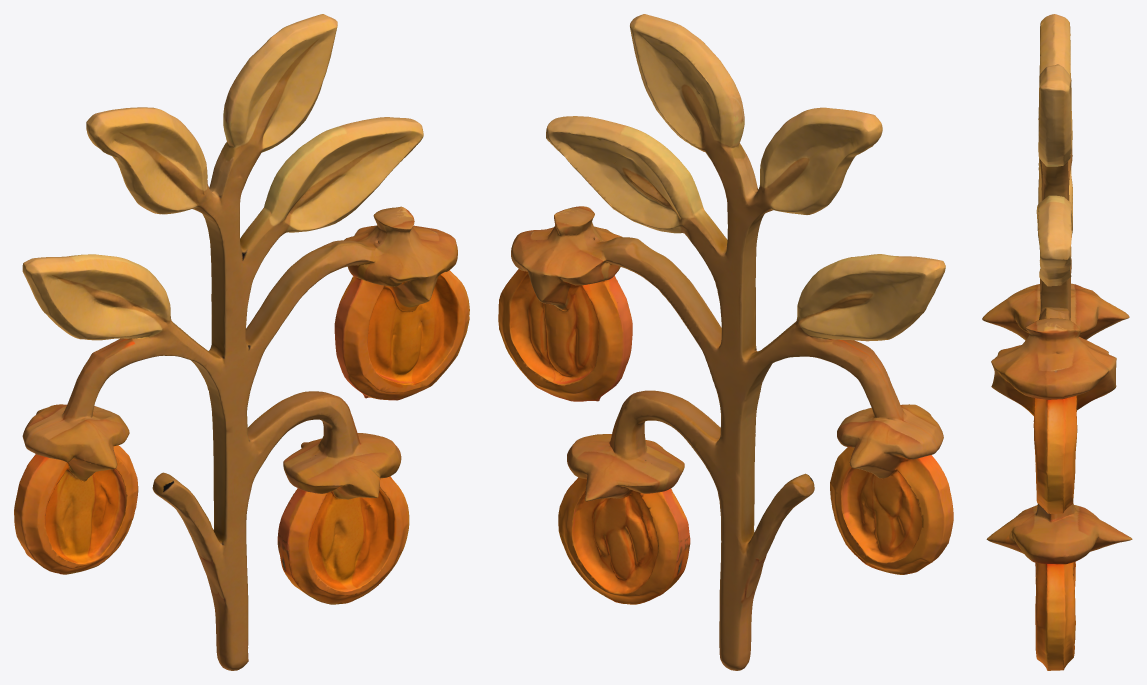
The model's file is Tomato_thirsty.glb.
3 renders of one model, left to right at view 1: azimuth 30°, elevation 25°; view 2: azimuth 150°, elevation 25°; view 3: azimuth 270°, elevation 25°, orthographic. The views are drawn at different scales.
Bounding box in the file's own units: 1.49 × 2 × 0.4411.
Materials: 1 (1 with a texture image).
